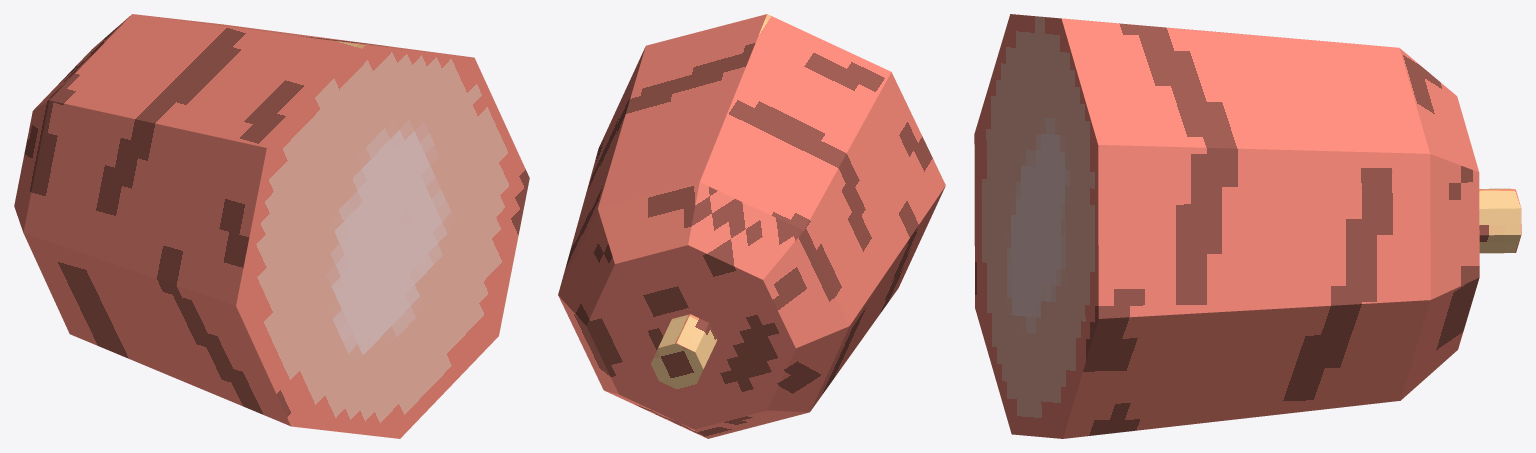
Rendered from ham.glb.
The picture shows the model from 3 angles, left to right: view 1: azimuth 30°, elevation 25°; view 2: azimuth 150°, elevation 25°; view 3: azimuth 270°, elevation 25°; orthographic projection. The views are drawn at different scales.
Visible parts, largest first — view 1: Cylinder.001; view 2: Cylinder.001; view 3: Cylinder.001.
Part boxes in pixels (left/top/right/bottom): Cylinder.001: left=14, top=14, right=529, bottom=438; Cylinder.001: left=558, top=14, right=945, bottom=438; Cylinder.001: left=974, top=14, right=1521, bottom=438.
Size of the model in its own units: 3.06 by 2.8 by 3.35.
Materials: 1 (1 with a texture image).
